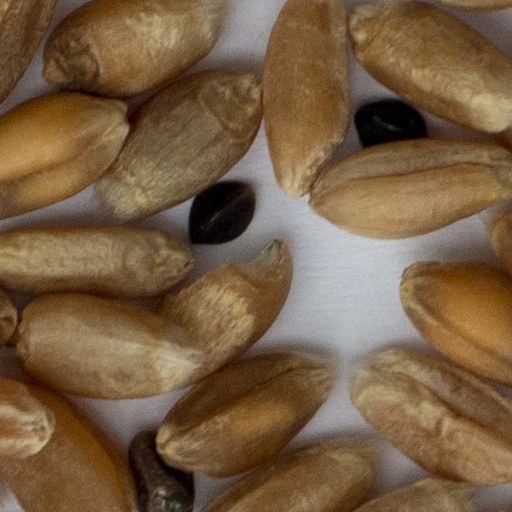Convolvulus-poly: (131, 433, 193, 511)
Fallopia-Convolvulus-poly: (190, 184, 253, 243), (355, 103, 425, 145)
